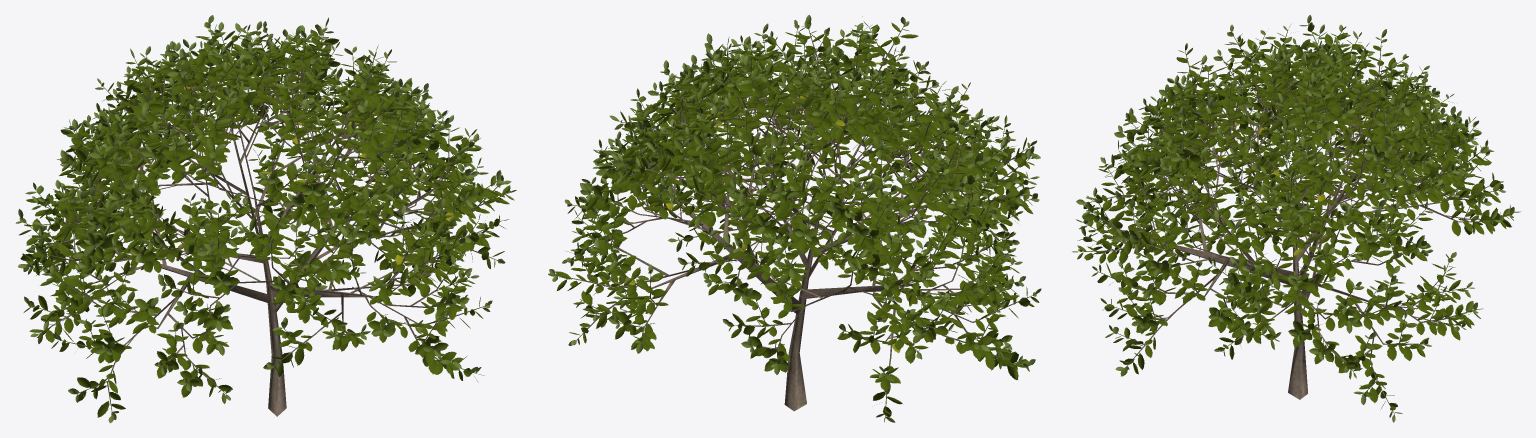
File: Citrus x limon HD_Standard leaves only mat 25_LOD4.fbx
3 renders of one model, left to right at view 1: azimuth 30°, elevation 25°; view 2: azimuth 150°, elevation 25°; view 3: azimuth 270°, elevation 25°, orthographic. The views are drawn at different scales.
Visible parts, largest first — view 1: Citrus_x_limon_HD; view 2: Citrus_x_limon_HD; view 3: Citrus_x_limon_HD.
Part boxes in pixels (left/top/right/bottom): Citrus_x_limon_HD: left=15, top=15, right=516, bottom=423; Citrus_x_limon_HD: left=548, top=14, right=1041, bottom=422; Citrus_x_limon_HD: left=1072, top=15, right=1520, bottom=422.
Bounding box in the file's own units: 2.98 × 2.31 × 2.79.
Materials: 7 (7 with a texture image).
